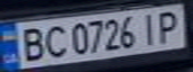0: (66, 20, 90, 55)
2: (103, 16, 124, 52)
6: (118, 12, 142, 50)
7: (84, 17, 106, 53)
B: (12, 25, 48, 63)
C: (39, 22, 69, 58)
I: (136, 9, 163, 46)
P: (151, 8, 187, 44)
